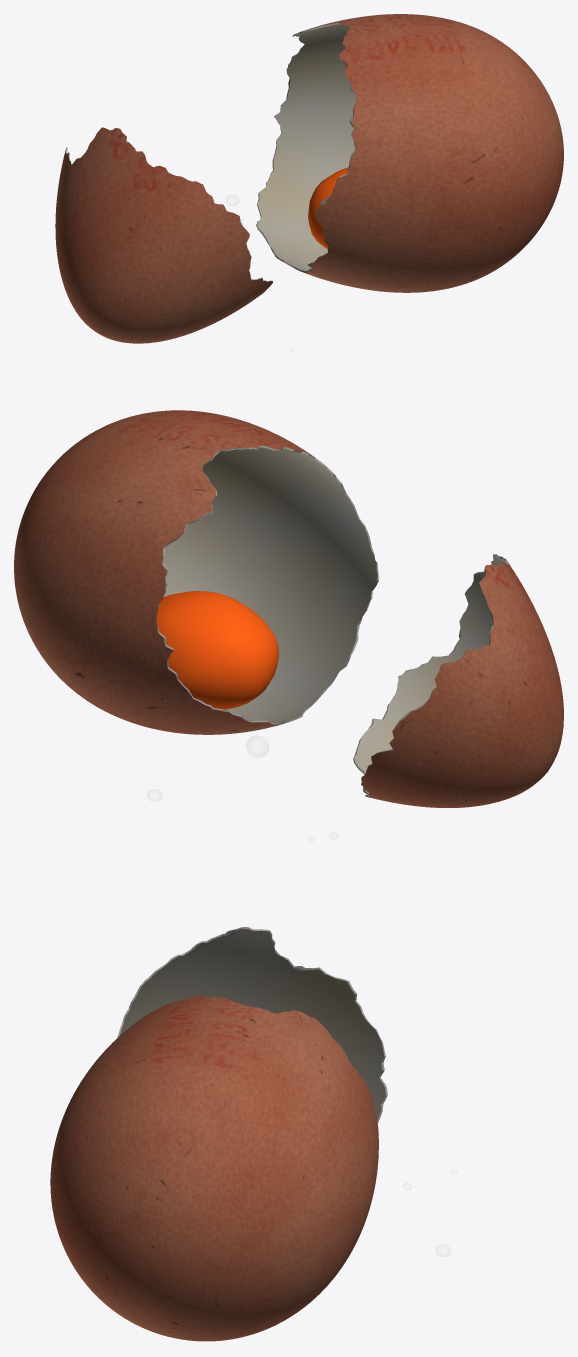
The model's file is broken_egg.glb.
3 renders of one model, top to bottom at view 1: azimuth 30°, elevation 25°; view 2: azimuth 150°, elevation 25°; view 3: azimuth 270°, elevation 25°, orthographic. The views are drawn at different scales.
Visible parts, largest first — view 1: Bake_target_outside_0_6, Bake_target.001_outside_0_10, Bake_target_inside_0_7, jaune_jaune_0_15, Bake_target_rim_0_5; view 2: Bake_target_outside_0_6, Bake_target_inside_0_7, Bake_target.001_outside_0_10, jaune_jaune_0_15, Bake_target.001_inside_0_11, Bake_target_rim_0_5, Bulles_bubbles_0_19; view 3: Bake_target_outside_0_6, Bake_target.001_inside_0_11, Bake_target.001_rim_0_9.
Part boxes in pixels (x1,y1,x2,y2): Bake_target_outside_0_6: [302, 14, 563, 292]; Bake_target.001_outside_0_10: [55, 127, 272, 343]; Bake_target_inside_0_7: [257, 24, 356, 270]; jaune_jaune_0_15: [308, 167, 348, 249]; Bake_target_rim_0_5: [256, 23, 357, 272]; Bake_target_outside_0_6: [14, 410, 376, 734]; Bake_target_inside_0_7: [163, 447, 377, 722]; Bake_target.001_outside_0_10: [361, 560, 563, 807]; jaune_jaune_0_15: [157, 591, 278, 709]; Bake_target.001_inside_0_11: [354, 555, 506, 793]; Bake_target_rim_0_5: [156, 445, 378, 724]; Bulles_bubbles_0_19: [147, 735, 337, 840]; Bake_target_outside_0_6: [50, 995, 378, 1341]; Bake_target.001_inside_0_11: [119, 929, 385, 1120]; Bake_target.001_rim_0_9: [117, 927, 387, 1123].
Size of what is drawn, in the model's own units: 378 by 201 by 340.
6 materials, 2 textured.
